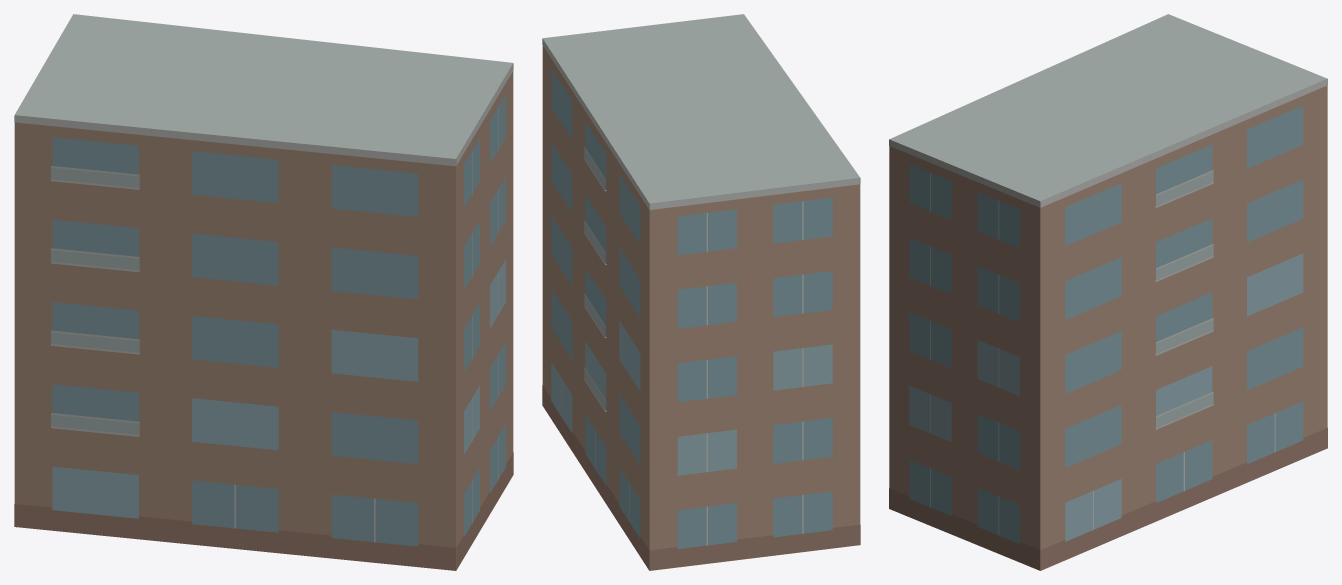
The model's file is survey-upis-32881796.glb.
3 renders of one model, left to right at view 1: azimuth 30°, elevation 25°; view 2: azimuth 150°, elevation 25°; view 3: azimuth 270°, elevation 25°, orthographic. The views are drawn at different scales.
Parts seen in each view (by area): view 1: survey-upis-32881796.tmp; view 2: survey-upis-32881796.tmp; view 3: survey-upis-32881796.tmp.
Part boxes in pixels (x1=…): survey-upis-32881796.tmp: x1=14, y1=14, x2=513, y2=570; survey-upis-32881796.tmp: x1=542, y1=14, x2=860, y2=570; survey-upis-32881796.tmp: x1=889, y1=14, x2=1327, y2=570.
Bounding box in the file's own units: 15.01 × 13.8 × 14.85.
